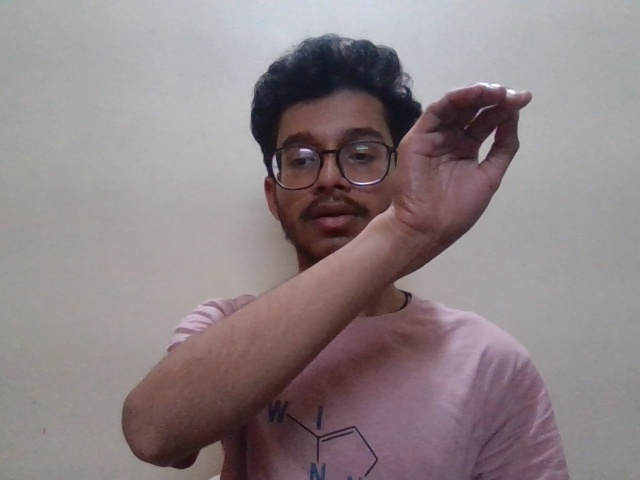sound: (389, 78, 533, 265)
